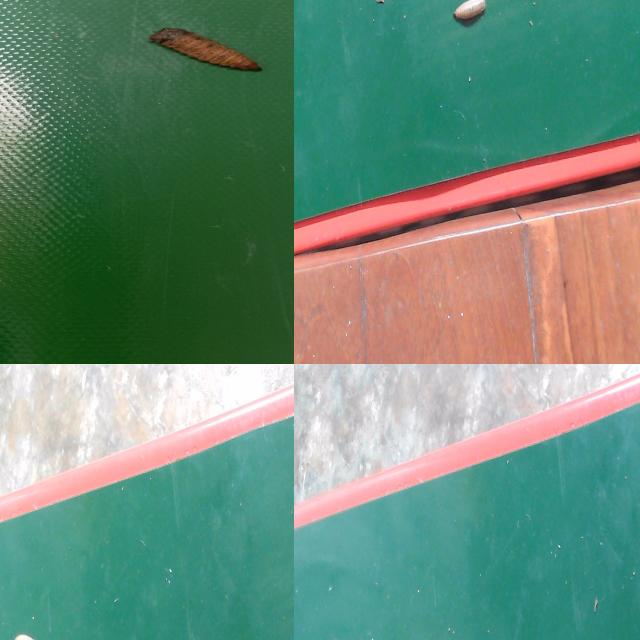Maggot: (149, 29, 261, 74), (451, 0, 488, 29)
